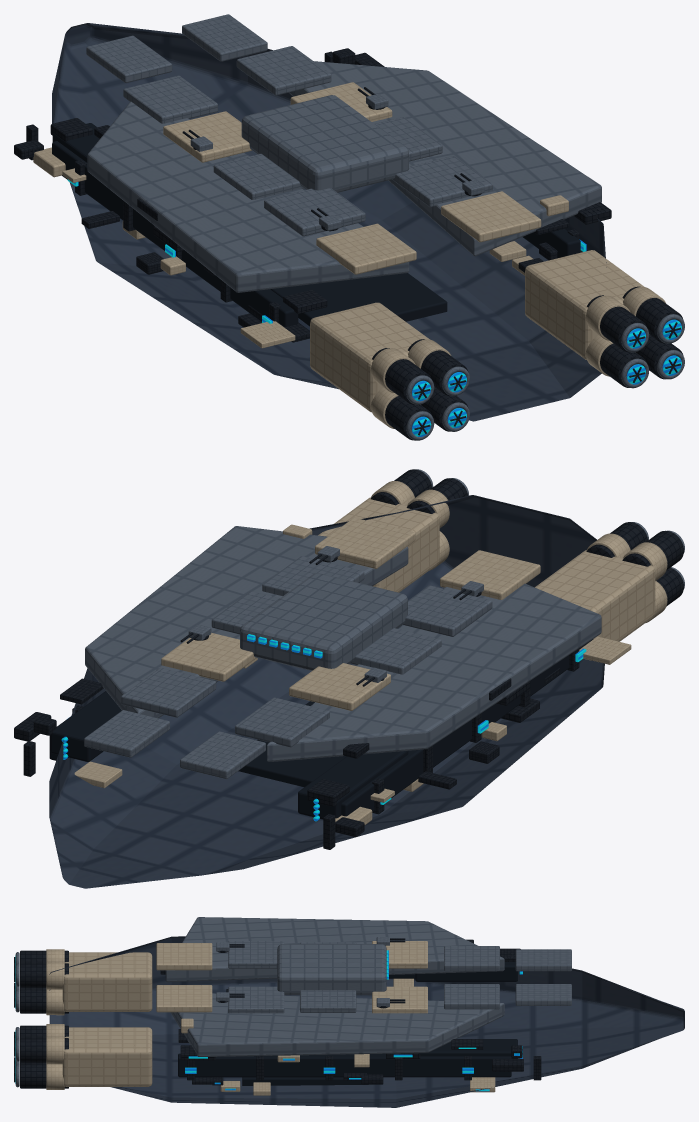
The model's file is aur-bastion-corvette.glb.
The picture shows the model from 3 angles, top to bottom: view 1: azimuth 30°, elevation 25°; view 2: azimuth 150°, elevation 25°; view 3: azimuth 270°, elevation 25°; orthographic projection. The views are drawn at different scales.
Visible parts, largest first — view 1: Arrowhead_Hull, Shoulder_Armor_L, Shoulder_Armor_R, Bridge, Engine_Bank_L, Engine_Bank_R, Ventral_Hangar, Corvette_Service_Trench_L, Corvette_Dorsal_Plate_R_01, Corvette_Dorsal_Plate_L_01, Corvette_Dorsal_Plate_R_05, Corvette_Dorsal_Plate_L_02 (+23 smaller); view 2: Arrowhead_Hull, Shoulder_Armor_L, Shoulder_Armor_R, Bridge, Engine_Bank_L, Engine_Bank_R, Corvette_Service_Trench_L, Corvette_Dorsal_Plate_R_01, Corvette_Dorsal_Plate_L_02, Corvette_Dorsal_Plate_R_05, Corvette_Dorsal_Plate_L_05, Corvette_Dorsal_Plate_L_04 (+20 smaller); view 3: Arrowhead_Hull, Shoulder_Armor_R, Shoulder_Armor_L, Corvette_Service_Trench_R, Bridge, Engine_Bank_R, Engine_Bank_L, Corvette_Dorsal_Plate_L_01, Corvette_Dorsal_Plate_R_01, Corvette_Dorsal_Plate_R_02, Corvette_Dorsal_Plate_L_05, Corvette_Dorsal_Plate_R_05 (+22 smaller).
Part boxes in pixels (x1,y1,x2,y2): Arrowhead_Hull: [52, 23, 606, 421]; Shoulder_Armor_L: [87, 101, 409, 292]; Shoulder_Armor_R: [289, 61, 601, 256]; Bridge: [241, 95, 408, 192]; Engine_Bank_L: [310, 302, 429, 412]; Engine_Bank_R: [525, 250, 644, 359]; Ventral_Hangar: [270, 273, 447, 326]; Corvette_Service_Trench_L: [52, 141, 298, 326]; Corvette_Dorsal_Plate_R_01: [441, 191, 541, 242]; Corvette_Dorsal_Plate_L_01: [316, 223, 416, 274]; Corvette_Dorsal_Plate_R_05: [236, 46, 331, 95]; Corvette_Dorsal_Plate_L_02: [264, 188, 365, 236]; Arrowhead_Hull: [49, 495, 604, 888]; Shoulder_Armor_L: [267, 583, 601, 761]; Shoulder_Armor_R: [85, 526, 408, 718]; Bridge: [240, 573, 407, 670]; Engine_Bank_L: [535, 550, 655, 660]; Engine_Bank_R: [318, 497, 439, 592]; Corvette_Service_Trench_L: [341, 648, 579, 816]; Corvette_Dorsal_Plate_R_01: [315, 517, 415, 568]; Corvette_Dorsal_Plate_L_02: [403, 585, 492, 636]; Corvette_Dorsal_Plate_R_05: [121, 668, 216, 717]; Corvette_Dorsal_Plate_L_05: [235, 697, 329, 747]; Corvette_Dorsal_Plate_L_04: [289, 663, 390, 710]; Arrowhead_Hull: [49, 936, 684, 1107]; Shoulder_Armor_R: [170, 993, 504, 1056]; Shoulder_Armor_L: [165, 917, 504, 982]; Corvette_Service_Trench_R: [178, 1053, 511, 1077]; Bridge: [277, 944, 386, 995]; Engine_Bank_R: [62, 1027, 152, 1086]; Engine_Bank_L: [62, 952, 152, 1011]; Corvette_Dorsal_Plate_L_01: [156, 943, 212, 970]; Corvette_Dorsal_Plate_R_01: [156, 985, 212, 1012]; Corvette_Dorsal_Plate_R_02: [228, 986, 284, 1013]; Corvette_Dorsal_Plate_L_05: [444, 946, 499, 971]; Corvette_Dorsal_Plate_R_05: [444, 984, 499, 1009].
Size of the model in its own units: 42.74 by 17.82 by 94.1.
6 materials, 5 textured.
